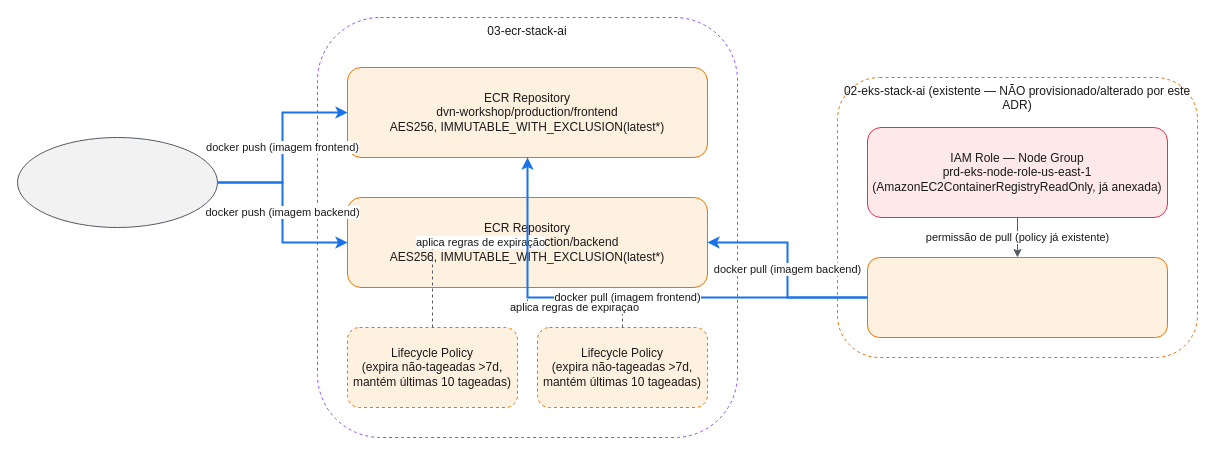
Some shapes in this 1215 by 455 pixel diagram are drawn without their labels. The centre of each missing label's shape, as x and y in pixels:
"EKS Managed Node Group prd-eks-ng-us-east-1" belongs at point (1017, 297).
"Operador (docker build/push manual, sem CI — Premissa 6)" belongs at point (117, 182).
